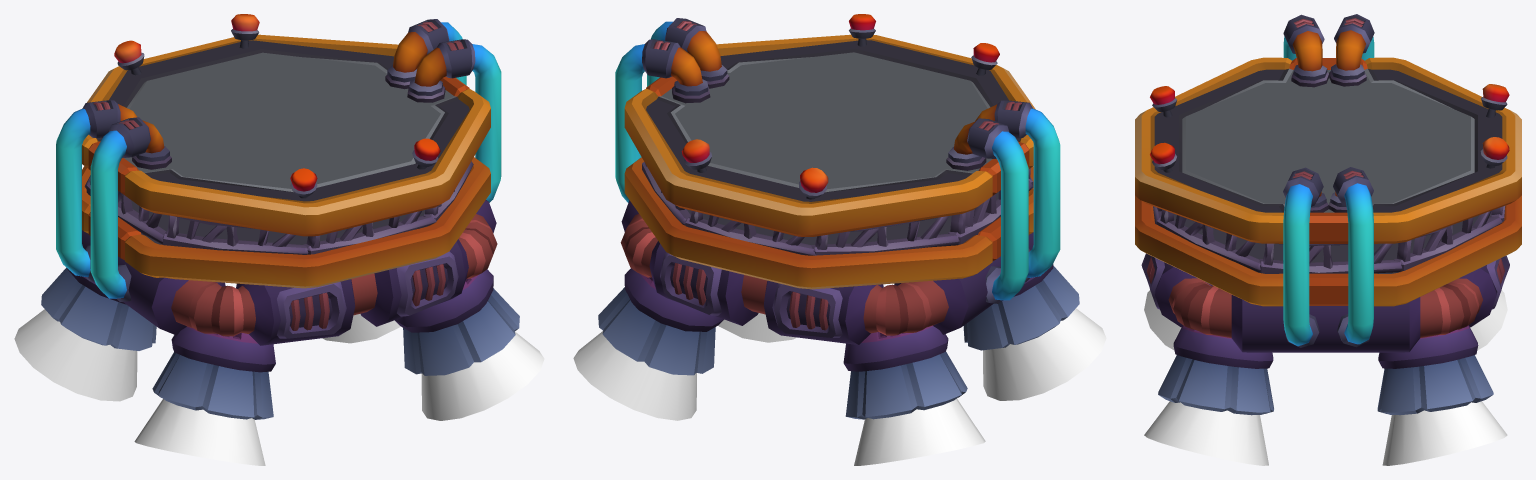
Rendered from SM_Fan _01.fbx.
The picture shows the model from 3 angles, left to right: view 1: azimuth 30°, elevation 25°; view 2: azimuth 150°, elevation 25°; view 3: azimuth 270°, elevation 25°; orthographic projection. The views are drawn at different scales.
Parts seen in each view (by area): view 1: SM_Fan _01; view 2: SM_Fan _01; view 3: SM_Fan _01.
Boxes of the visible parts, x1,y1,x2,y2 form: SM_Fan _01: (14, 14, 544, 465); SM_Fan _01: (573, 14, 1106, 465); SM_Fan _01: (1135, 14, 1521, 465).
Bounding box in the file's own units: 5.9 × 4.5 × 5.04.
